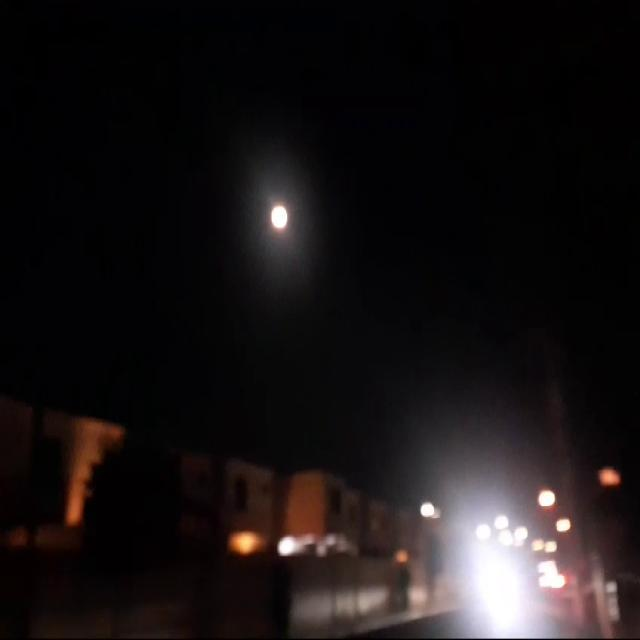moon: (267, 200, 286, 234)
